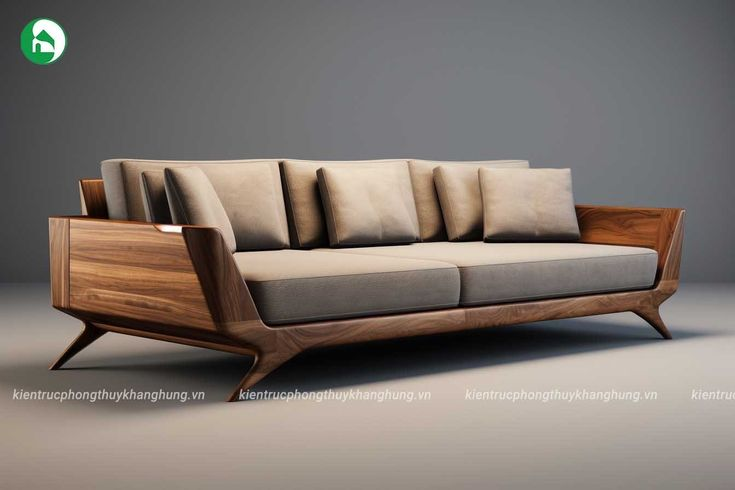3seatersofa: (49, 159, 684, 400)
backrest: (99, 157, 529, 252), (81, 179, 106, 218)
base: (252, 281, 680, 348)
leftarmrest: (573, 203, 688, 288)
leg: (227, 344, 324, 399), (48, 324, 114, 372), (630, 303, 669, 340)
pillow: (434, 165, 579, 240), (318, 164, 418, 246), (140, 167, 234, 250)
rightarmrest: (48, 214, 265, 347)
seat: (235, 241, 656, 324)
